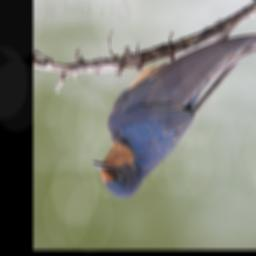Swallow: (91, 27, 256, 201)
